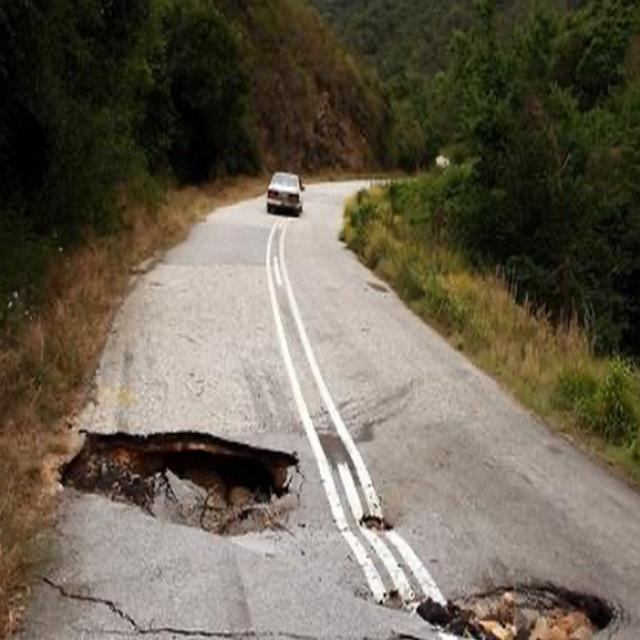Lubang: (45, 425, 297, 540), (405, 588, 617, 640)
